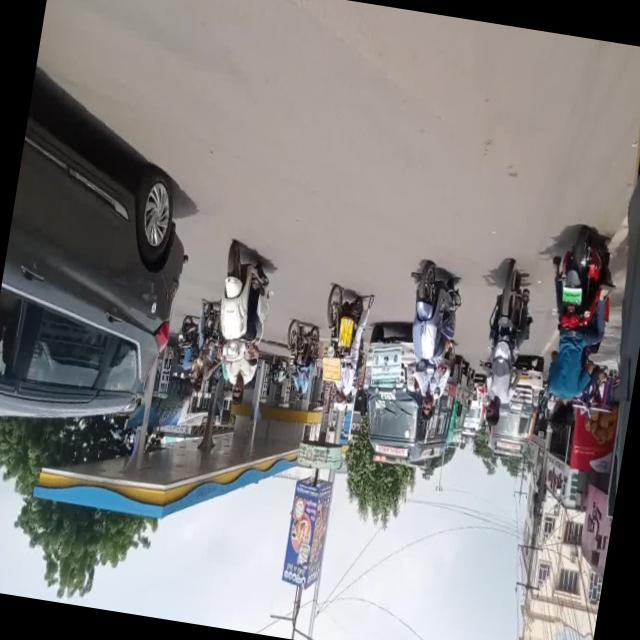ambulance: (364, 324, 464, 463), (488, 360, 544, 459), (446, 362, 473, 443), (464, 374, 489, 444)
